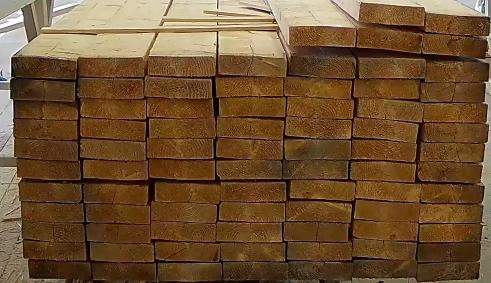Wood-Plank: (353, 117, 420, 143), (359, 2, 424, 27), (359, 28, 421, 53), (10, 78, 74, 102), (18, 179, 82, 203), (290, 53, 354, 77), (286, 24, 358, 45), (285, 76, 352, 98), (358, 99, 424, 121), (80, 138, 146, 160), (427, 12, 490, 35), (83, 184, 148, 206), (151, 221, 216, 243), (11, 56, 76, 78), (145, 77, 213, 98), (424, 34, 488, 56), (356, 200, 420, 222), (220, 53, 281, 76), (14, 138, 77, 160), (22, 221, 85, 243), (290, 180, 356, 201), (358, 56, 424, 77), (288, 97, 353, 118), (80, 120, 145, 141), (152, 202, 217, 223), (221, 182, 286, 203), (217, 138, 282, 159), (218, 118, 283, 139), (287, 118, 352, 139), (353, 141, 417, 162), (14, 119, 77, 140), (219, 97, 285, 117), (80, 99, 146, 119), (149, 118, 215, 138), (155, 183, 221, 203), (220, 202, 286, 222), (285, 140, 351, 160), (78, 78, 143, 98), (83, 160, 148, 180), (155, 243, 220, 263), (218, 223, 283, 243), (419, 163, 484, 183), (78, 56, 143, 76), (425, 103, 489, 123), (23, 242, 87, 262), (287, 202, 351, 222), (288, 242, 352, 262), (147, 99, 214, 118), (422, 82, 485, 102), (92, 263, 155, 283), (90, 243, 153, 263), (354, 79, 420, 98), (147, 139, 213, 158), (149, 160, 215, 179), (217, 161, 283, 180), (353, 221, 419, 240), (21, 202, 83, 222), (28, 260, 90, 280), (422, 184, 484, 204), (85, 205, 150, 224), (284, 161, 349, 180), (420, 204, 485, 223), (216, 79, 284, 97), (17, 160, 81, 179), (221, 243, 285, 262), (352, 163, 416, 182), (357, 183, 421, 202), (285, 224, 349, 243), (353, 241, 417, 260), (419, 244, 482, 263), (418, 263, 481, 282), (422, 124, 488, 142), (421, 143, 486, 161), (149, 57, 214, 75), (13, 101, 77, 119), (86, 225, 150, 243), (223, 263, 286, 281), (428, 63, 491, 81), (421, 225, 482, 243), (158, 265, 222, 282), (289, 263, 353, 280), (354, 261, 418, 278)
